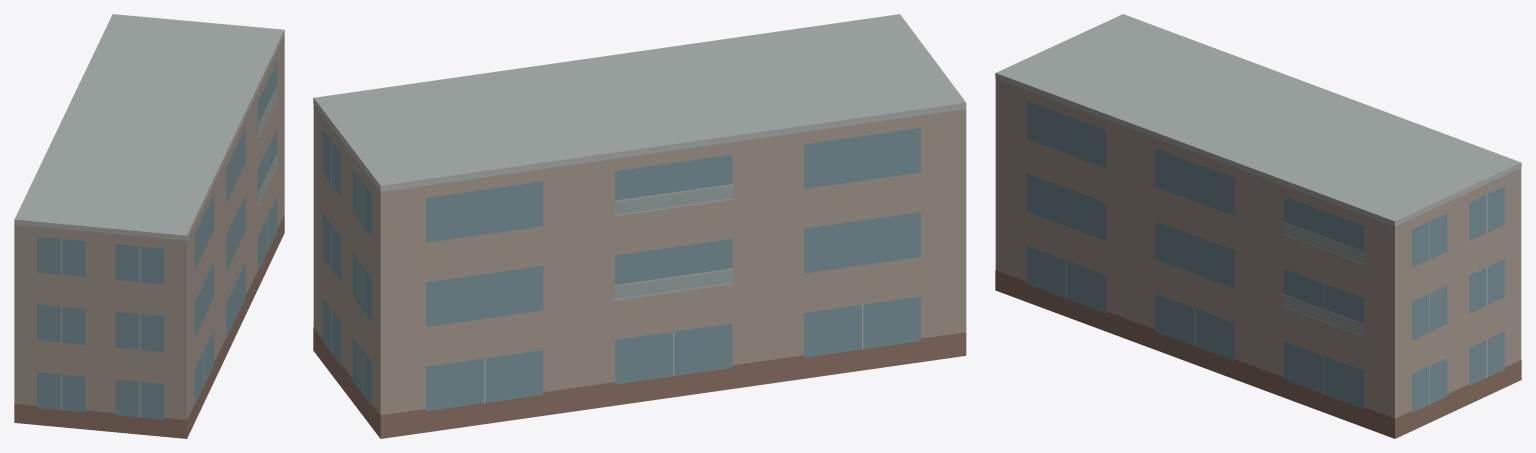
Rendered from survey-upis-32525874.glb.
3 views of the same model, side by side, from view 1: azimuth 30°, elevation 25°; view 2: azimuth 150°, elevation 25°; view 3: azimuth 270°, elevation 25° (orthographic). The views are drawn at different scales.
Visible parts, largest first — view 1: survey-upis-32525874.tmp; view 2: survey-upis-32525874.tmp; view 3: survey-upis-32525874.tmp.
Boxes of the visible parts, left/top/right/bottom form: survey-upis-32525874.tmp: left=14, top=14, right=284, bottom=438; survey-upis-32525874.tmp: left=313, top=14, right=966, bottom=438; survey-upis-32525874.tmp: left=995, top=14, right=1521, bottom=438.
Size of the model in its own units: 20.05 by 9.8 by 21.48.
